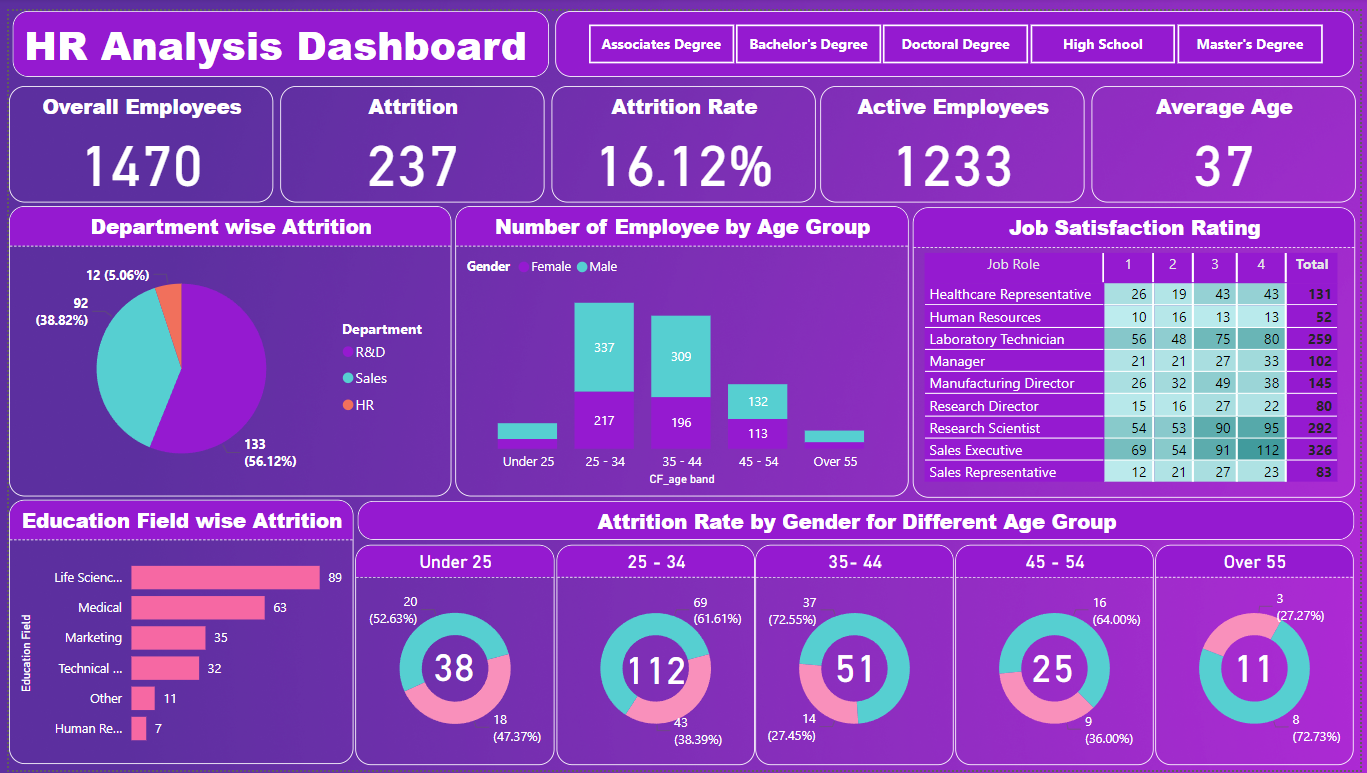

The dashboard page shown, as its layout file describes it:
{"tool":"powerbi","page":{"name":"Dashboard","canvas":[1280,720],"ordinal":0},"visuals":[{"type":"card","title":"Overall Employees","fields":{"Values":["Sum(HR data.Employee Count)"]},"box":[0,71.1,250.2,110.4],"z":0},{"type":"card","title":"Attrition","fields":{"Values":["Sum(HR data.Attrition Count)"]},"box":[257.5,71.1,250.2,110.4],"z":1000},{"type":"card","title":"Attrition Rate","fields":{"Values":["HR data.Attrition Rate"]},"box":[513.8,71.1,250.2,110.4],"z":2000},{"type":"card","title":"Active Employees","fields":{"Values":["HR data.Active Employees"]},"box":[768.9,71.1,250.2,110.4],"z":3000},{"type":"pieChart","title":"Department wise Attrition","fields":{"Category":["HR data.Department"],"Y":["Sum(HR data.Attrition Count)"]},"box":[0,185.1,419.4,275],"z":3500},{"type":"card","title":"Average Age","fields":{"Values":["Avg(HR data.Age)"]},"box":[1025.2,71.1,250.2,110.4],"z":4000},{"type":"columnChart","title":"Number of Employee by Age Group","fields":{"Category":["HR data.CF_age band"],"Y":["Sum(HR data.Employee Count)"],"Series":["HR data.Gender"]},"box":[423.1,185.1,429.2,275],"z":6000},{"type":"pivotTable","title":"Job Satisfaction Rating","fields":{"Rows":["HR data.Job Role"],"Columns":["HR data.Job Satisfaction"],"Values":["Sum(HR data.Employee Count)"]},"box":[855.9,185.4,419,275],"z":7000},{"type":"textbox","title":"Attrition Rate by Gender for Different Age Group","box":[329.9,464.8,944.2,36.8],"z":7500},{"type":"barChart","title":"Education Field wise Attrition","fields":{"Category":["HR data.Education Field"],"Y":["Sum(HR data.Attrition Count)"]},"box":[0,463.5,326.2,250.2],"z":8000},{"type":"donutChart","title":"Under 25","fields":{"Category":["HR data.Gender"],"Y":["Sum(HR data.Attrition Count)"],"Series":["HR data.CF_age band"]},"box":[328.6,505.2,188.8,208.5],"z":10500},{"type":"donutChart","title":"25 - 34","fields":{"Category":["HR data.Gender"],"Y":["Sum(HR data.Attrition Count)"],"Series":["HR data.CF_age band"]},"box":[518.7,505.2,187.6,208.5],"z":12500},{"type":"donutChart","title":"35- 44","fields":{"Category":["HR data.Gender"],"Y":["Sum(HR data.Attrition Count)"],"Series":["HR data.CF_age band"]},"box":[707.6,505.2,187.6,208.5],"z":12750},{"type":"donutChart","title":"45 - 54","fields":{"Category":["HR data.Gender"],"Y":["Sum(HR data.Attrition Count)"],"Series":["HR data.CF_age band"]},"box":[896.4,505.2,187.6,208.5],"z":14500},{"type":"donutChart","title":"Over 55","fields":{"Category":["HR data.Gender"],"Y":["Sum(HR data.Attrition Count)"],"Series":["HR data.CF_age band"]},"box":[1086.5,505.2,187.6,208.5],"z":14750},{"type":"card","fields":{"Values":["Sum(HR data.Attrition Count)"]},"box":[390.2,591.9,64.3,54.1],"z":15000},{"type":"card","fields":{"Values":["Sum(HR data.Attrition Count)"]},"box":[572.9,594.8,78.9,54.1],"z":16000},{"type":"card","fields":{"Values":["Sum(HR data.Attrition Count)"]},"box":[770.2,593.4,64.3,54.1],"z":17000},{"type":"card","fields":{"Values":["Sum(HR data.Attrition Count)"]},"box":[957.3,593.4,64.3,54.1],"z":18000},{"type":"card","fields":{"Values":["Sum(HR data.Attrition Count)"]},"box":[1147.3,593.4,64.3,54.1],"z":19000},{"type":"slicer","fields":{"Values":["HR data.Education"]},"box":[517.5,0,756.6,62.5],"z":19500},{"type":"textbox","title":"HR Analysis Dashboard","box":[3.7,0,507.7,62.5],"z":20000}]}

Visuals, with their boxes in screenshot pixels (x1, y1, x2, y2), scaled from the page's 1280x720 canvas onto the 1367x773 screenshot:
"Overall Employees" card: bbox(0, 76, 267, 195)
"Attrition" card: bbox(275, 76, 542, 195)
"Attrition Rate" card: bbox(549, 76, 816, 195)
"Active Employees" card: bbox(821, 76, 1088, 195)
"Department wise Attrition" pieChart: bbox(0, 199, 448, 494)
"Average Age" card: bbox(1095, 76, 1362, 195)
"Number of Employee by Age Group" columnChart: bbox(452, 199, 910, 494)
"Job Satisfaction Rating" pivotTable: bbox(914, 199, 1362, 494)
"Attrition Rate by Gender for Different Age Group" textbox: bbox(352, 499, 1361, 539)
"Education Field wise Attrition" barChart: bbox(0, 498, 348, 766)
"Under 25" donutChart: bbox(351, 542, 553, 766)
"25 - 34" donutChart: bbox(554, 542, 754, 766)
"35- 44" donutChart: bbox(756, 542, 956, 766)
"45 - 54" donutChart: bbox(957, 542, 1158, 766)
"Over 55" donutChart: bbox(1160, 542, 1361, 766)
card - Sum(HR data.Attrition Count): bbox(417, 635, 485, 694)
card - Sum(HR data.Attrition Count): bbox(612, 639, 696, 697)
card - Sum(HR data.Attrition Count): bbox(823, 637, 891, 695)
card - Sum(HR data.Attrition Count): bbox(1022, 637, 1091, 695)
card - Sum(HR data.Attrition Count): bbox(1225, 637, 1294, 695)
slicer - HR data.Education: bbox(553, 0, 1361, 67)
"HR Analysis Dashboard" textbox: bbox(4, 0, 546, 67)
